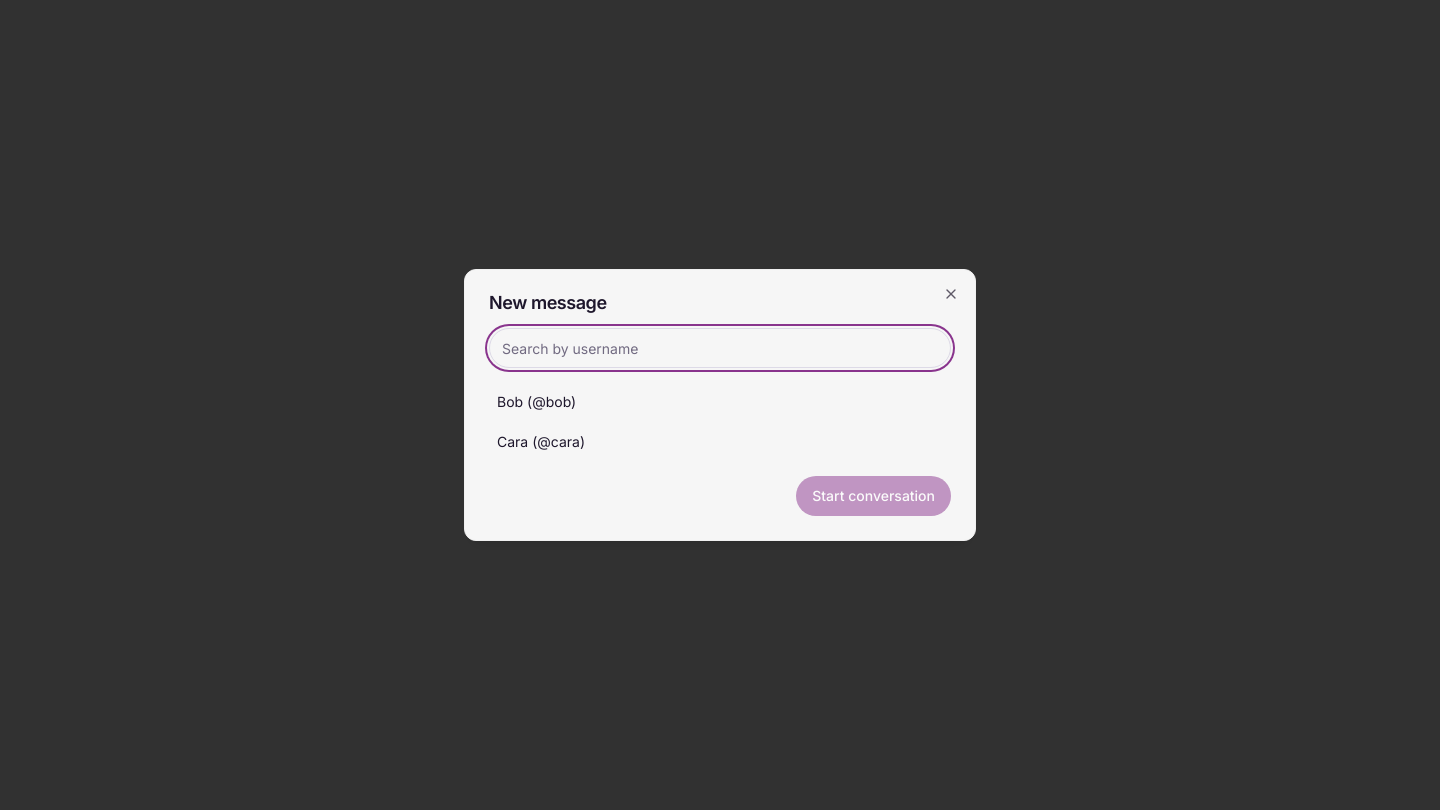
Scenario: NewMessageDialog › shows an optional group name field once two or more people are selected
Type "a" into the field with placeholder "Search by username" at (720, 348), box [489, 328, 951, 368]
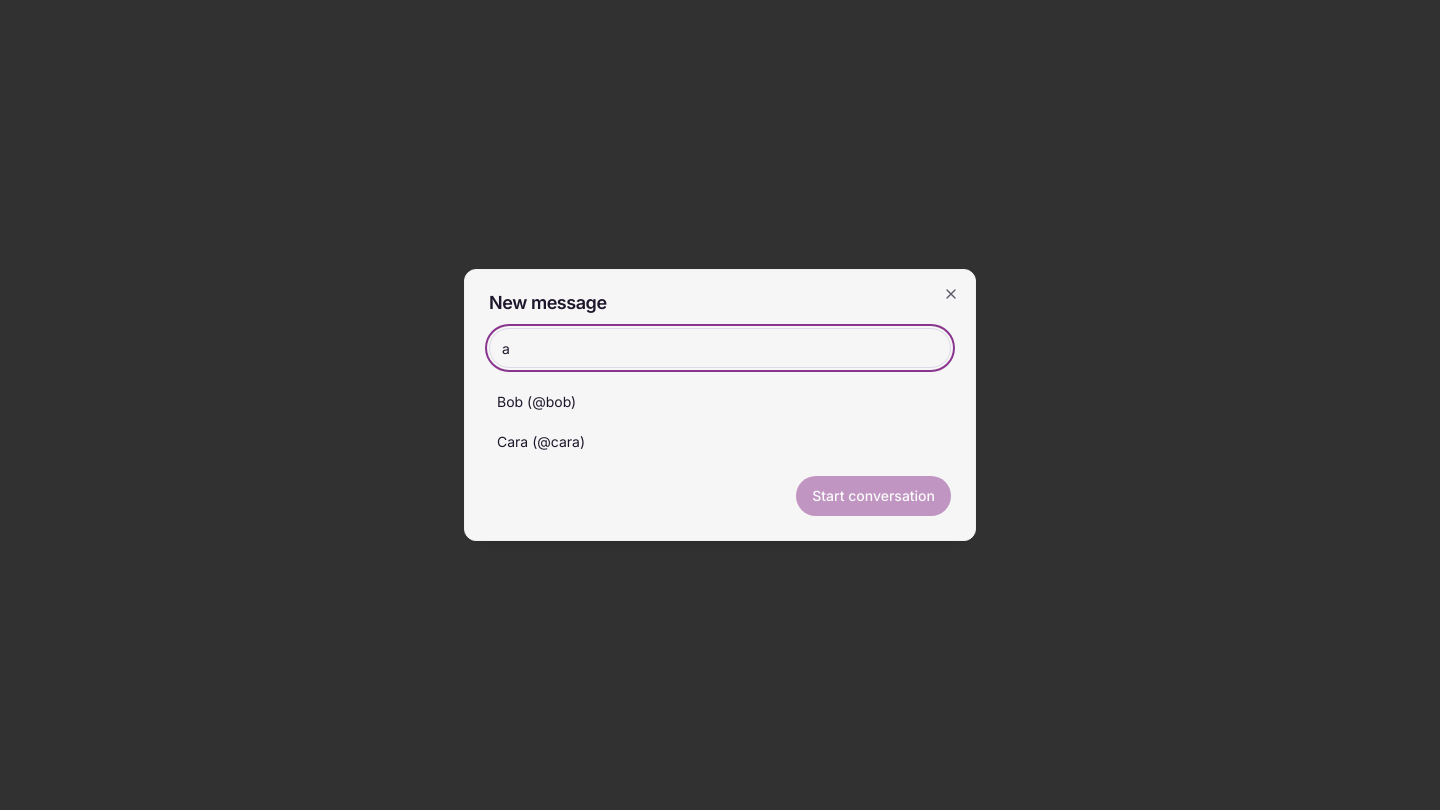
Check: the field with placeholder "Group name (optional)" is not shown
Click the button "Bob (@bob)" at (510, 402), box [489, 384, 951, 420]
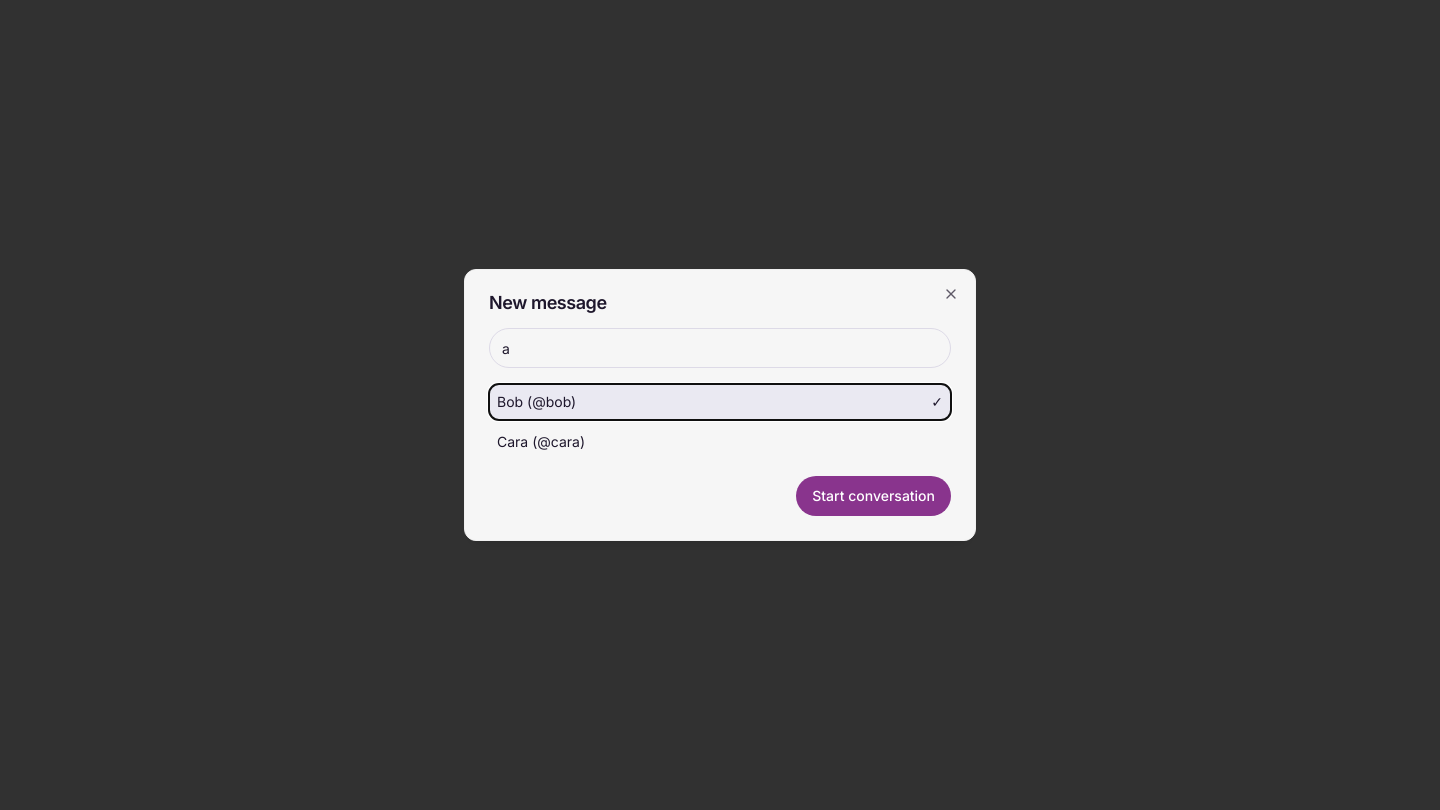
Click the button "Cara (@cara)" at (513, 442), box [489, 424, 951, 460]
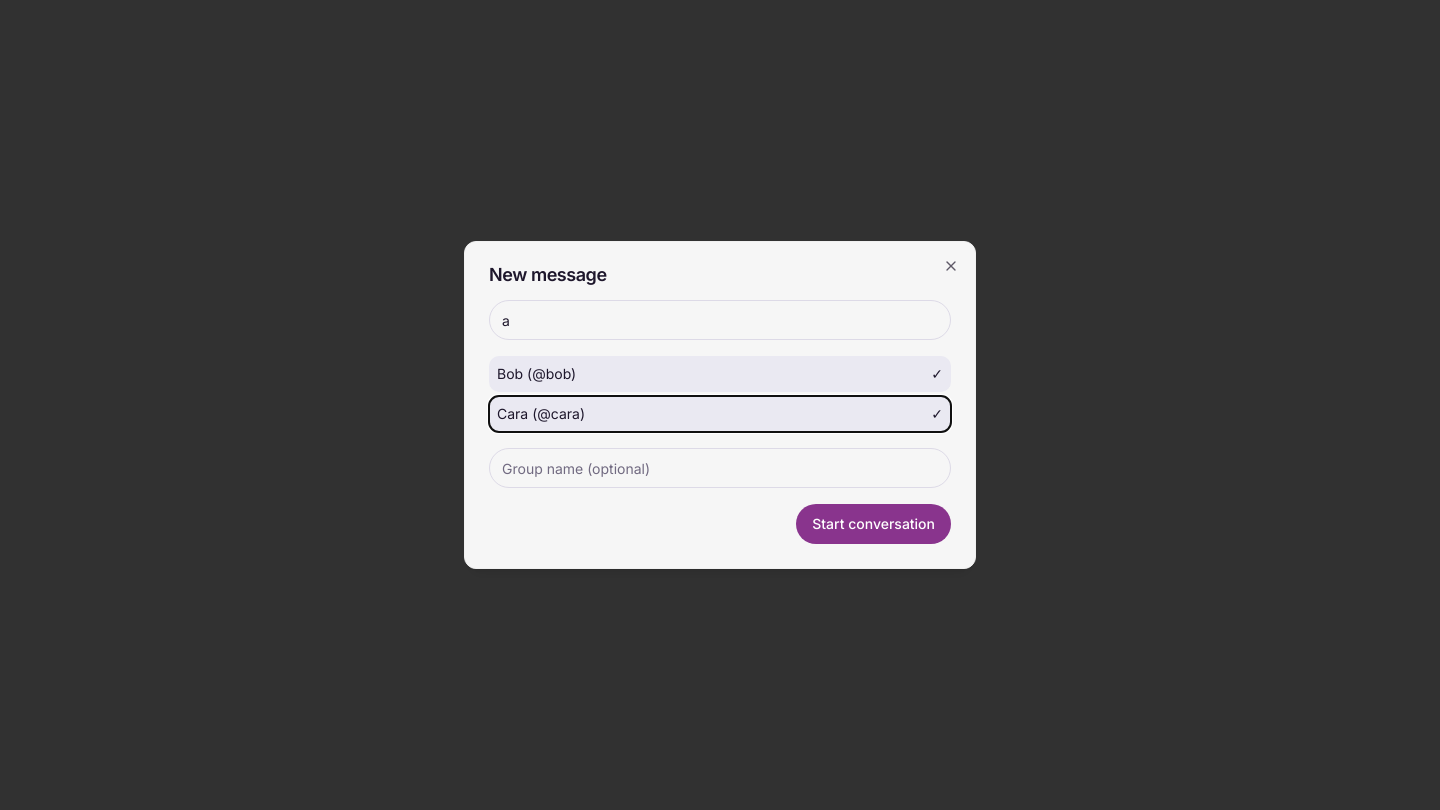
Check: the field with placeholder "Group name (optional)" is shown, box [489, 448, 951, 488]
